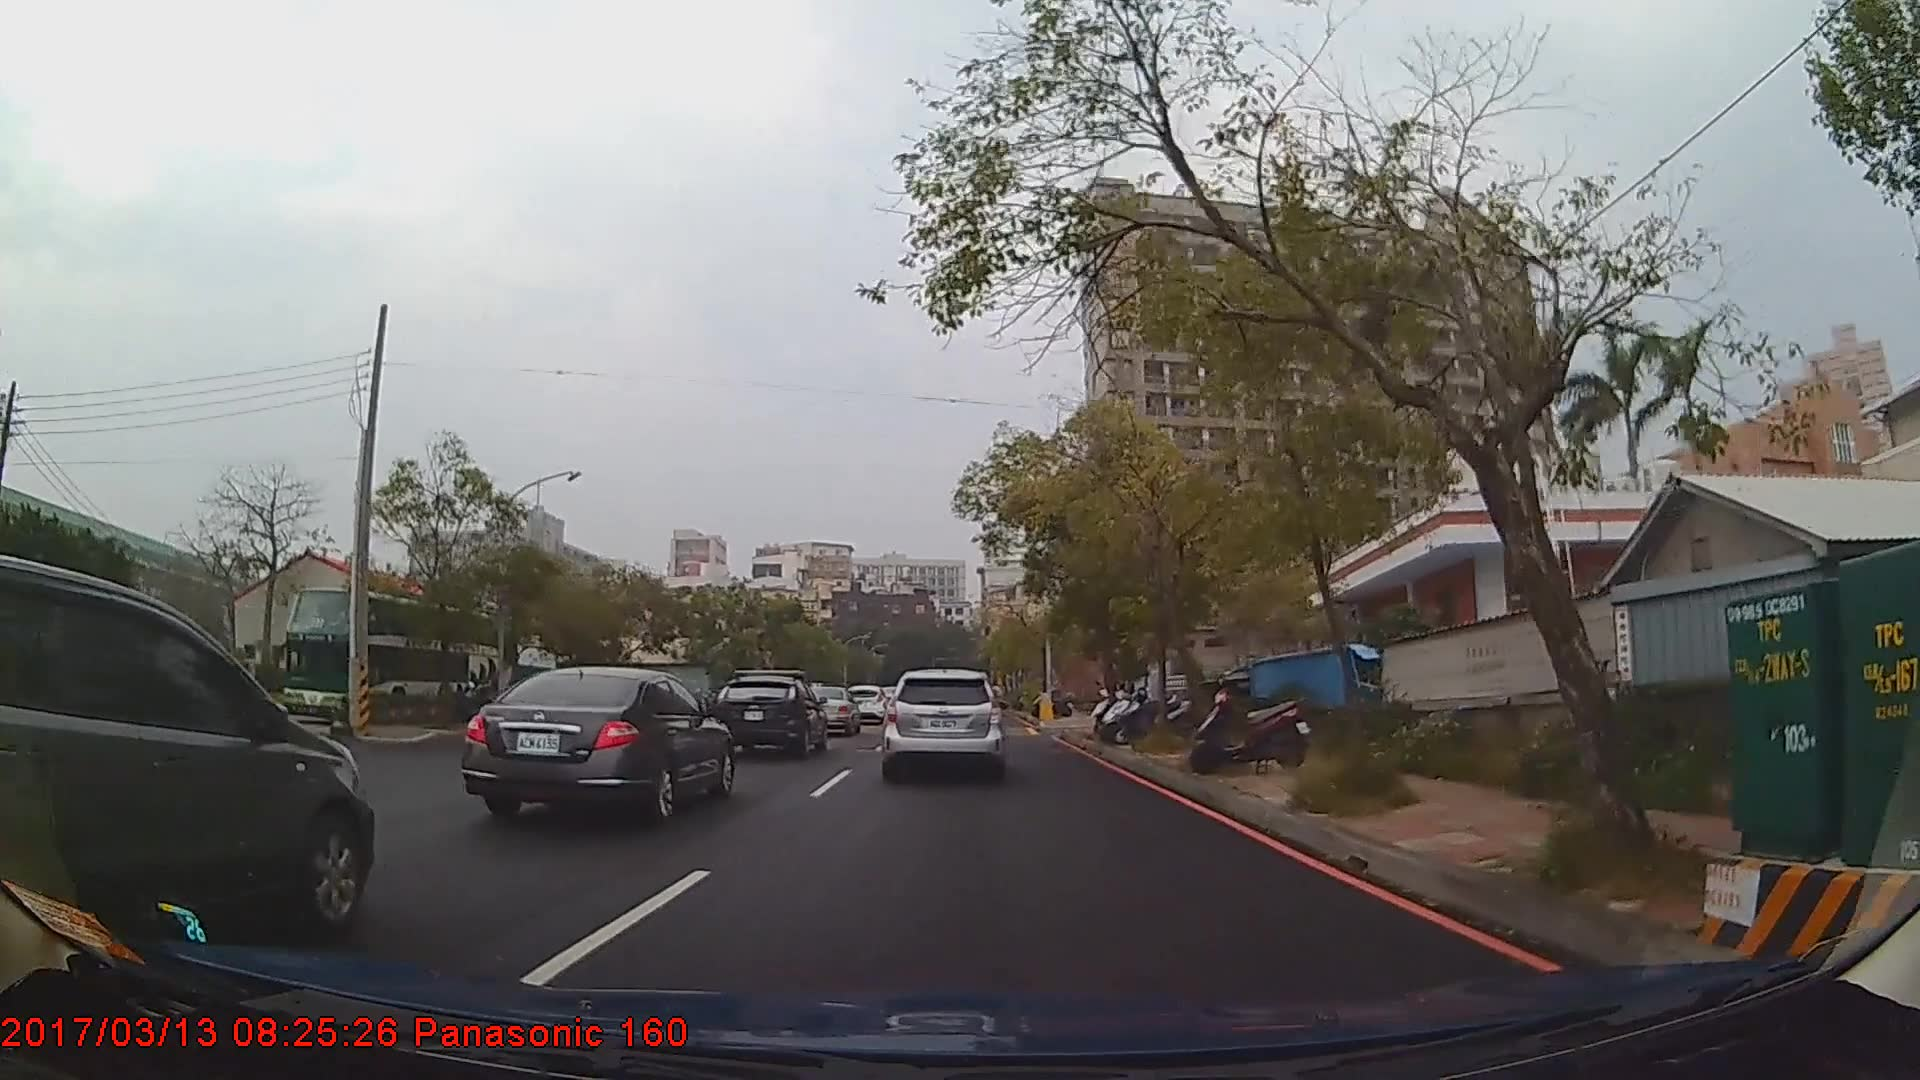vehicle: (0, 549, 376, 953), (462, 662, 737, 822), (281, 585, 497, 725), (880, 667, 1004, 781), (713, 667, 825, 758), (803, 684, 861, 738), (843, 684, 887, 724)
